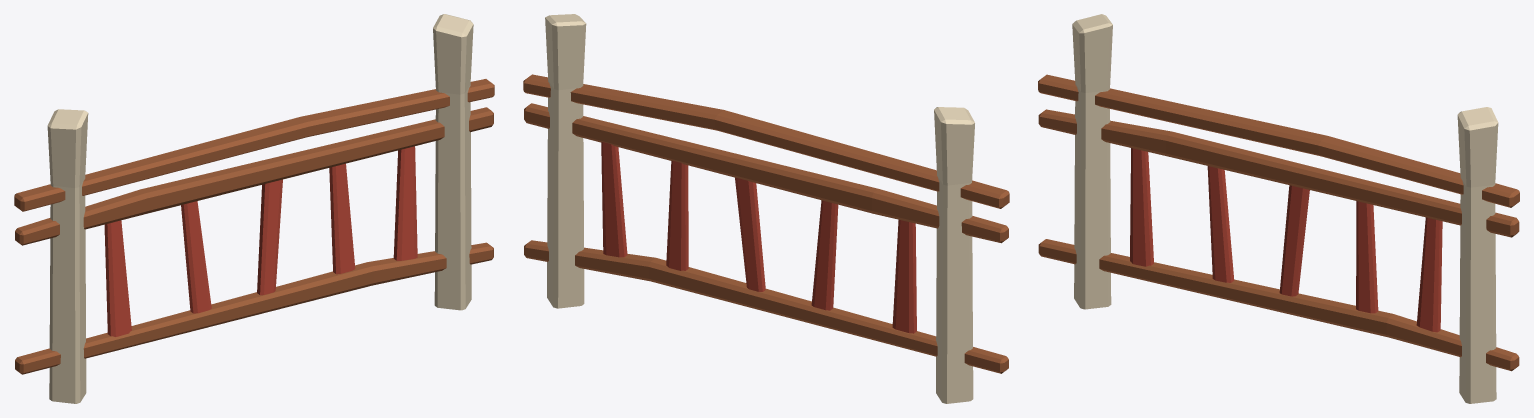
File: fence_k.gltf
3 views of the same model, side by side, from view 1: azimuth 30°, elevation 25°; view 2: azimuth 150°, elevation 25°; view 3: azimuth 330°, elevation 25° (orthographic).
Visible parts, largest first — view 1: fence_k001; view 2: fence_k001; view 3: fence_k001.
Boxes of the visible parts, bbox=[...] form: fence_k001: bbox=[14, 14, 494, 403]; fence_k001: bbox=[523, 14, 1009, 403]; fence_k001: bbox=[1038, 14, 1519, 403].
Bounding box in the file's own units: 1.41 × 0.802 × 0.1139.
1 material, 1 textured.
